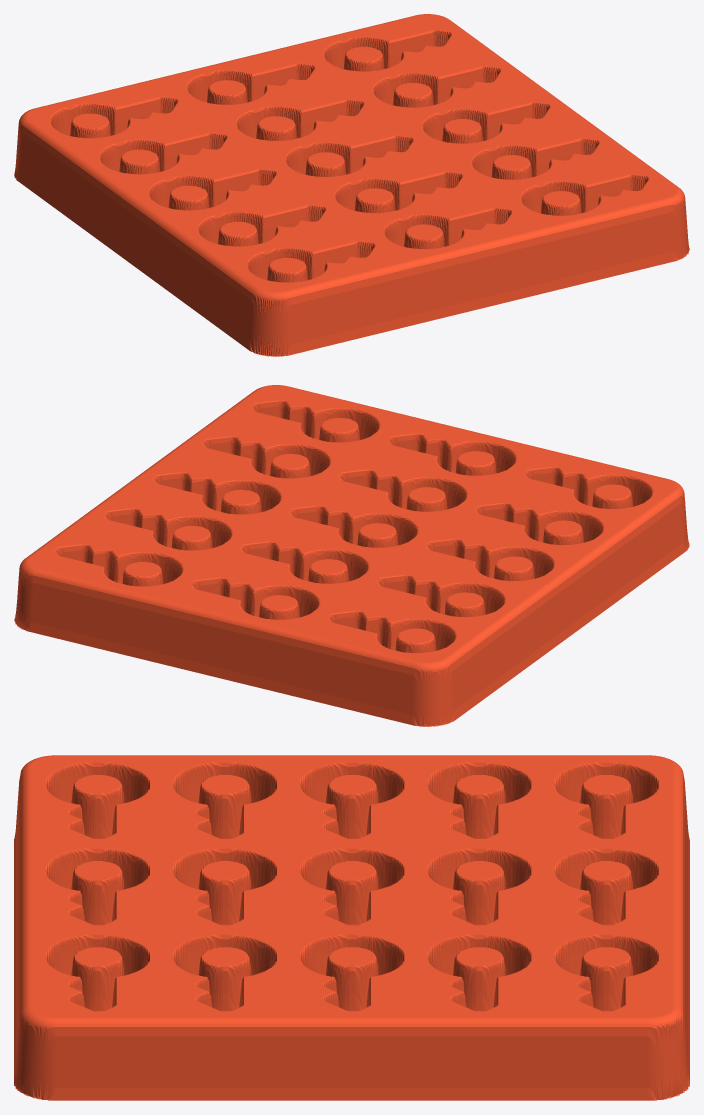
File: mold.glb
3 renders of one model, top to bottom at view 1: azimuth 30°, elevation 25°; view 2: azimuth 150°, elevation 25°; view 3: azimuth 270°, elevation 25°, orthographic. The views are drawn at different scales.
Parts seen in each view (by area): view 1: geometry_0; view 2: geometry_0; view 3: geometry_0.
Part boxes in pixels (left/top/right/bottom): geometry_0: left=14, top=14, right=689, bottom=356; geometry_0: left=14, top=385, right=689, bottom=726; geometry_0: left=14, top=755, right=689, bottom=1100.
Bounding box in the file's own units: 0.1415 × 0.0182 × 0.1468.
